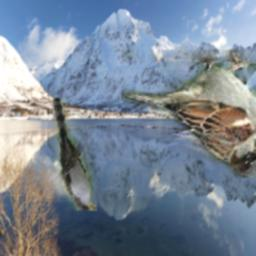Cuckoo: (52, 99, 97, 212)
Sparrow: (122, 50, 256, 178)
